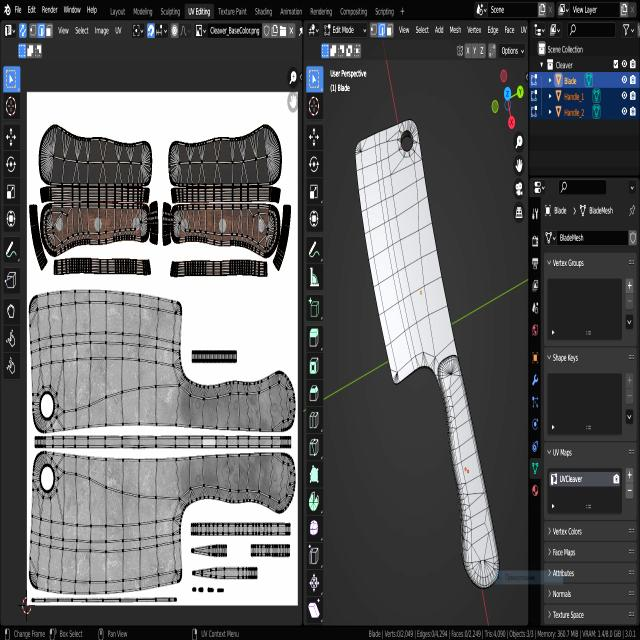cleaver: (352, 119, 501, 591)
